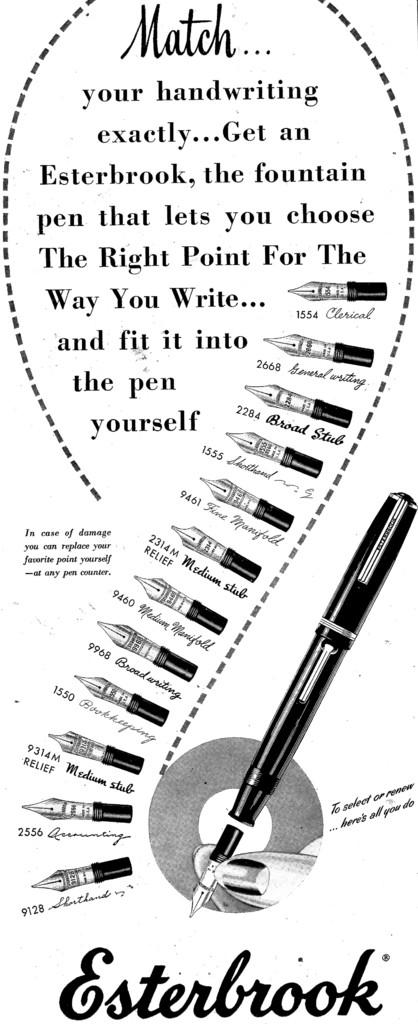pen: (178, 487, 417, 922), (89, 623, 198, 695), (122, 567, 226, 628), (170, 522, 261, 588), (21, 851, 130, 903), (251, 380, 359, 431), (40, 728, 151, 777), (226, 435, 331, 483), (73, 678, 180, 723), (257, 331, 376, 371), (192, 483, 294, 529), (15, 788, 137, 824), (282, 271, 389, 303)
